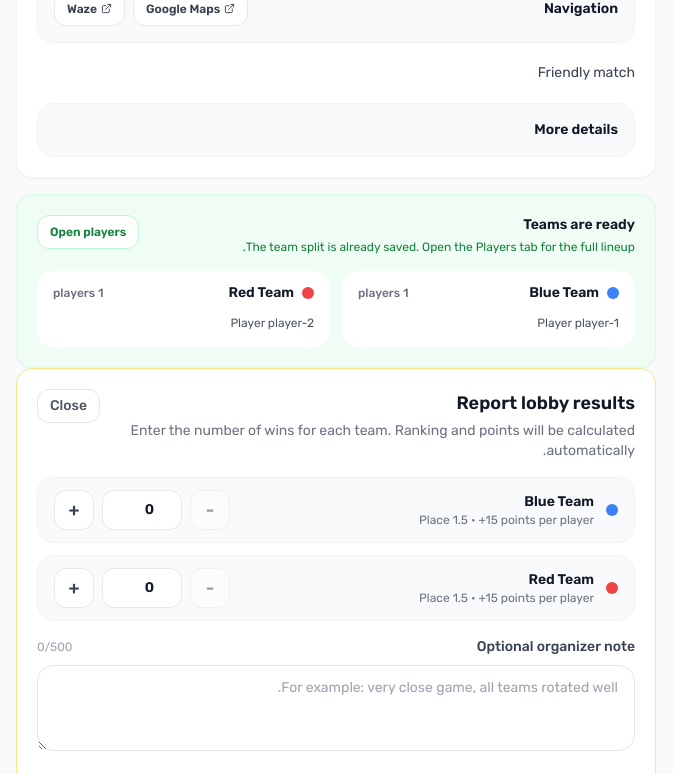
Test case: LobbyDetailLive join flows › lets organizers close the result modal and reopen it from the summary card
(page scrolled)
Expected: the heading "Report lobby results" is shown, [456,392,635,414]
Click the button "Close": [69, 406] box [37,388,100,422]
(page scrolled)
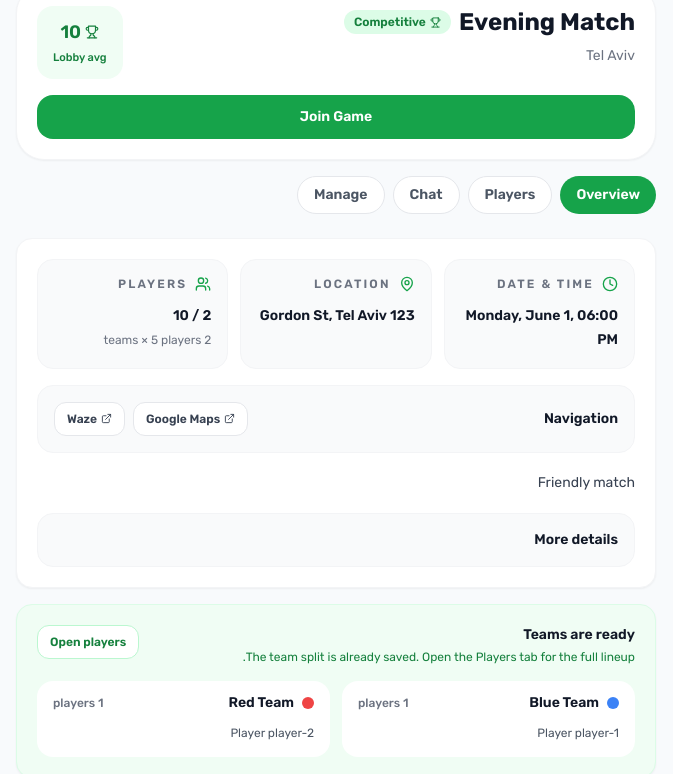
Now the heading "Report lobby results" is gone
Click the button "Manage": [341, 194] box [297,176,384,214]
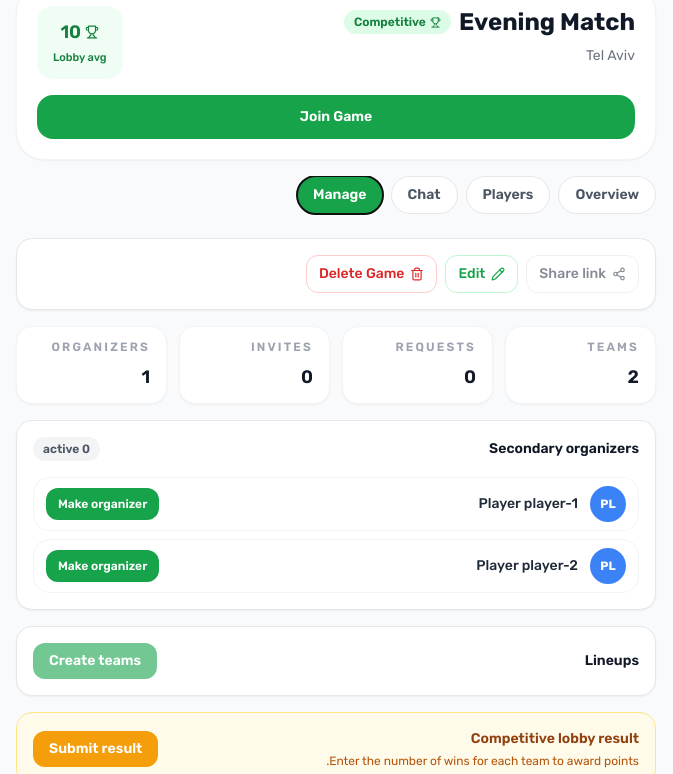
Now the button "Submit result" is enabled
Click the button "Submit result": [96, 748] box [33,730,158,766]
(page scrolled)
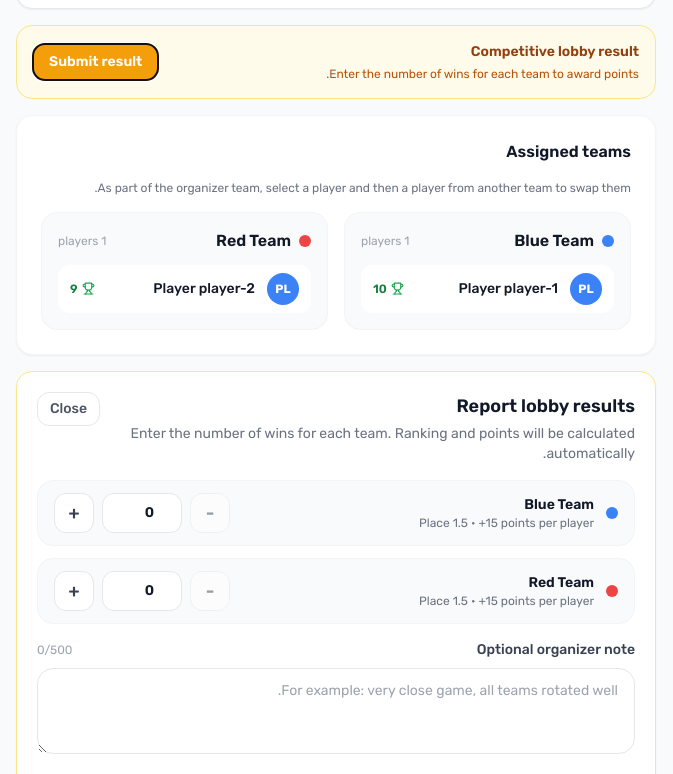
Now the heading "Report lobby results" is shown, box [456,394,635,416]
